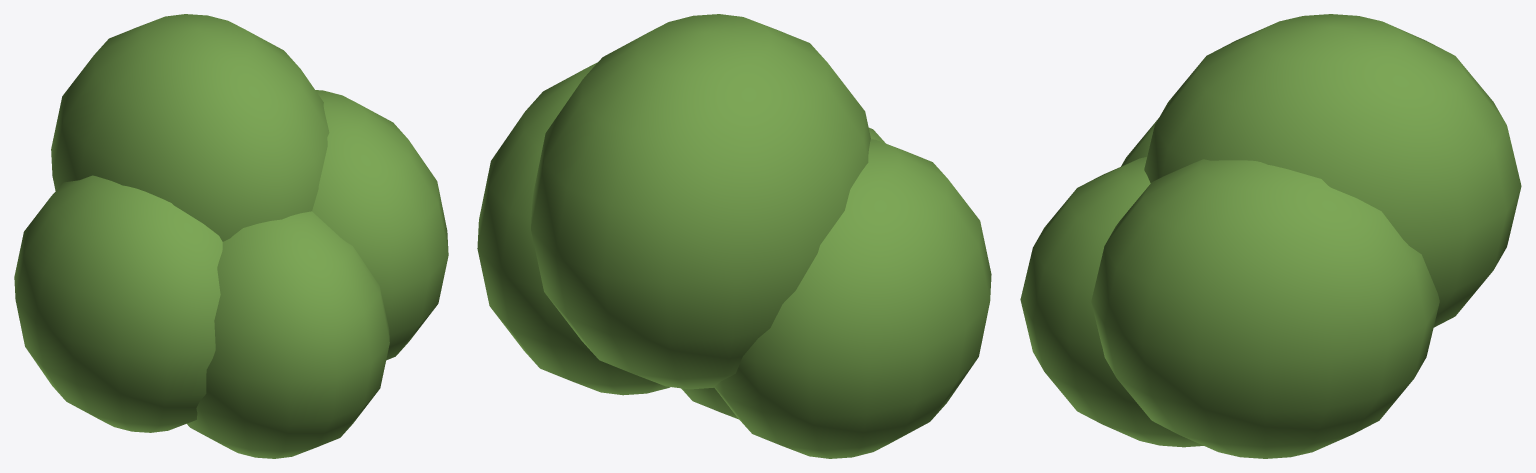
Rendered from berry_cooldown.fbx.
The picture shows the model from 3 angles, left to right: view 1: azimuth 30°, elevation 25°; view 2: azimuth 150°, elevation 25°; view 3: azimuth 270°, elevation 25°; orthographic projection. The views are drawn at different scales.
Visible parts, largest first — view 1: berry_cooldown; view 2: berry_cooldown; view 3: berry_cooldown.
Boxes of the visible parts, x1,y1,x2,y2 form: berry_cooldown: [14, 14, 448, 458]; berry_cooldown: [477, 14, 991, 458]; berry_cooldown: [1020, 14, 1521, 458].
Bounding box in the file's own units: 1 × 0.9 × 1.
Materials: 1 (1 with a texture image).
